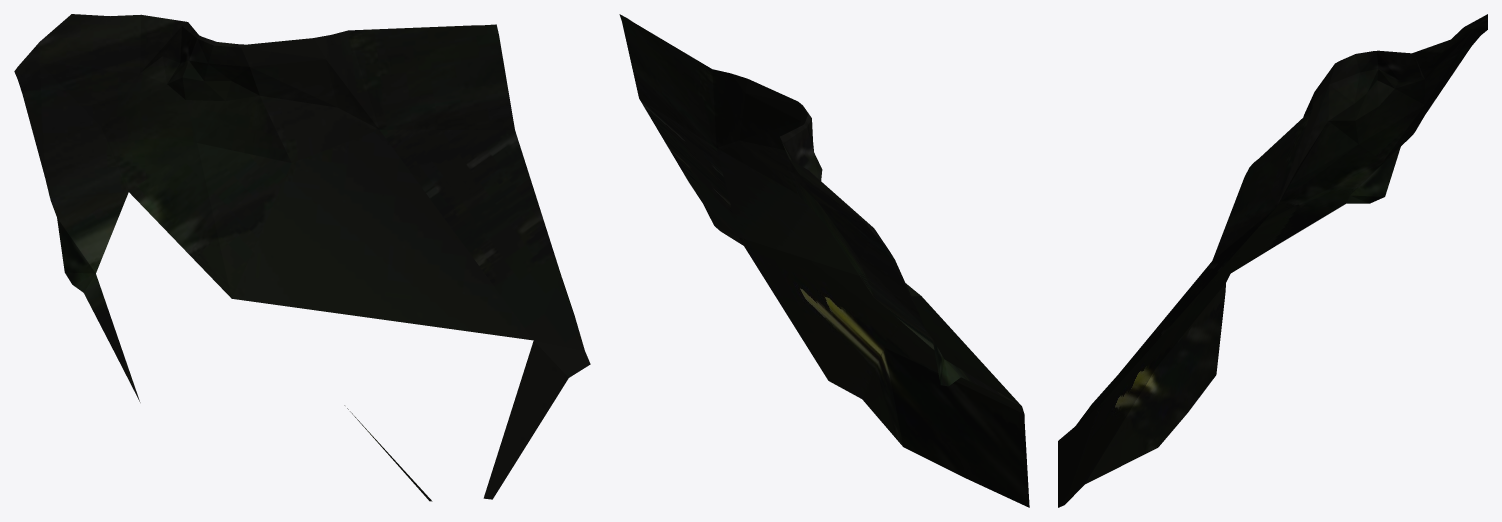
3 views of the same model, side by side, from view 1: azimuth 30°, elevation 25°; view 2: azimuth 150°, elevation 25°; view 3: azimuth 270°, elevation 25° (orthographic). The views are drawn at different scales.
Size of the model in its own units: 0.8373 by 0.8374 by 0.8374.
Materials: 3 (3 with a texture image).
